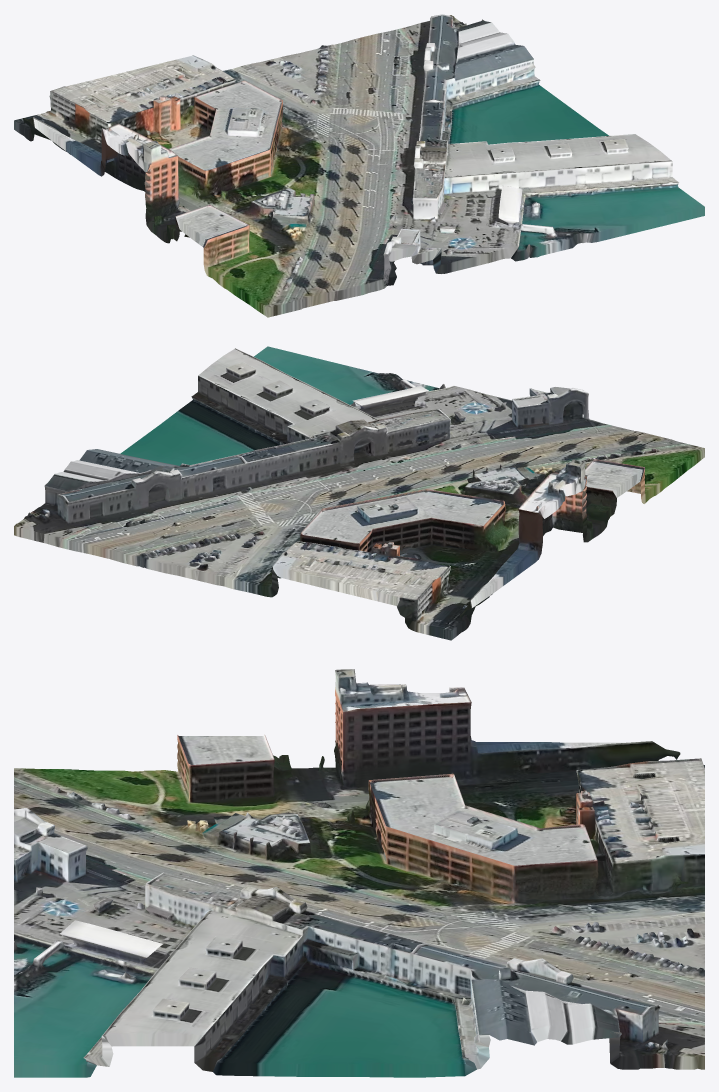
Rendered from z17-20969-50647-h0-yup-uvflip-v3-world.glb.
3 views of the same model, one above another, from view 1: azimuth 30°, elevation 25°; view 2: azimuth 150°, elevation 25°; view 3: azimuth 270°, elevation 25° (orthographic). The views are drawn at different scales.
Bounding box in the file's own units: 241 × 46.72 × 243.
1 material, 1 textured.
